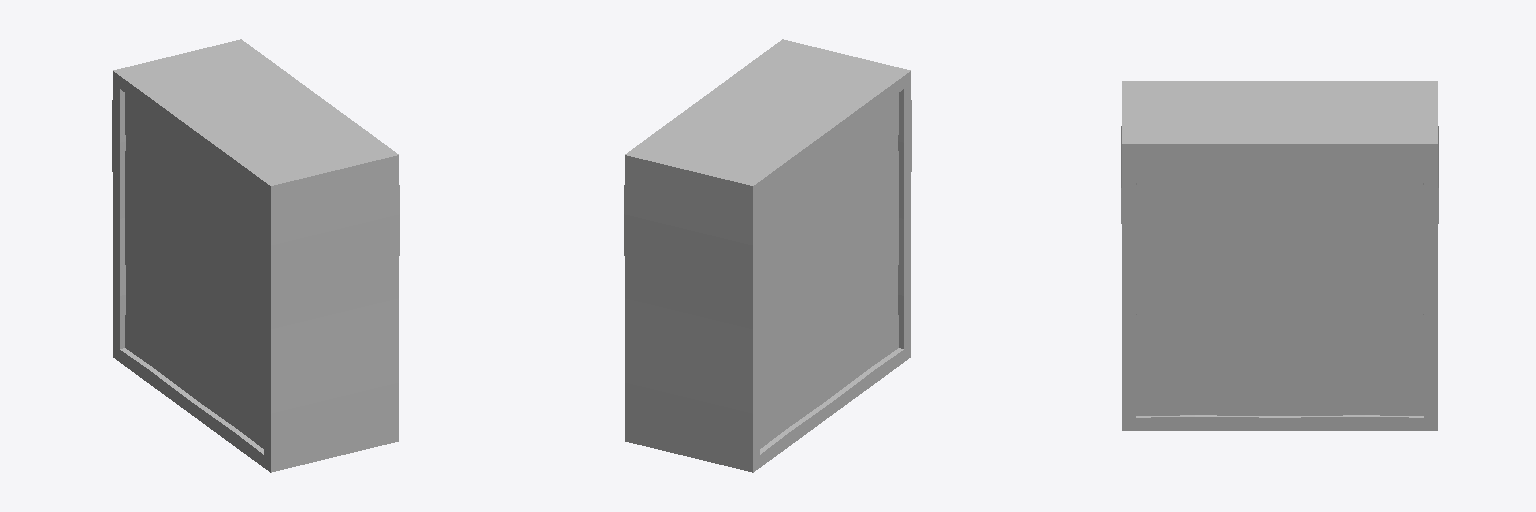
Rendered from industrial fan.obj.
3 renders of one model, left to right at view 1: azimuth 30°, elevation 25°; view 2: azimuth 150°, elevation 25°; view 3: azimuth 270°, elevation 25°, orthographic.
Parts seen in each view (by area): view 1: Fan_box; view 2: Fan_box; view 3: Fan_box.
Part boxes in pixels (x1,y1,x2,y2): Fan_box: (112,39,399,472); Fan_box: (624,39,911,472); Fan_box: (1121,81,1438,430).
Bounding box in the file's own units: 18.5 × 39.41 × 39.52.